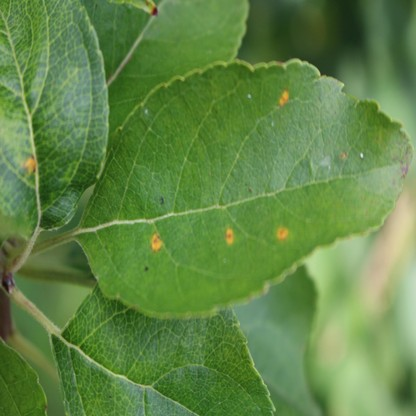rust: (150, 232, 163, 252), (23, 156, 35, 176), (224, 224, 234, 243), (278, 89, 289, 105), (276, 226, 288, 240)
